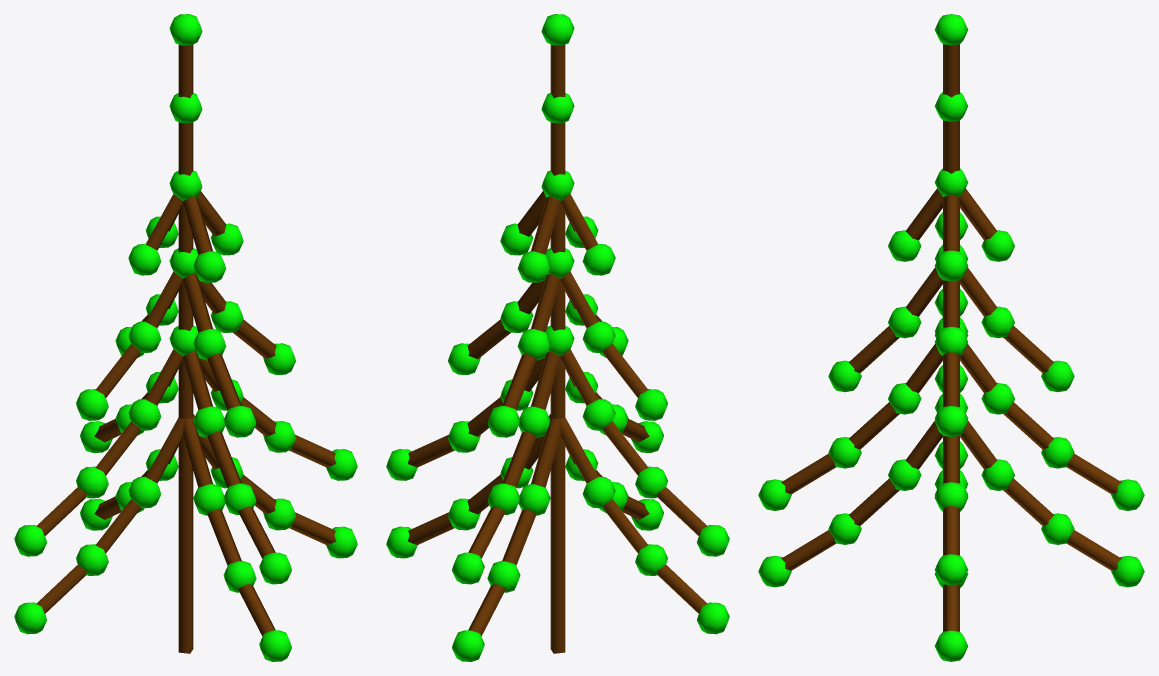
Rendered from spruce.obj.
3 renders of one model, left to right at view 1: azimuth 30°, elevation 25°; view 2: azimuth 150°, elevation 25°; view 3: azimuth 270°, elevation 25°, orthographic.
Visible parts, largest first — view 1: Mesh_0.009_Mesh_0; view 2: Mesh_0.009_Mesh_0; view 3: Mesh_0.009_Mesh_0.
Boxes of the visible parts, x1,y1,x2,y2 form: Mesh_0.009_Mesh_0: (14,14,357,661); Mesh_0.009_Mesh_0: (386,14,729,661); Mesh_0.009_Mesh_0: (758,14,1144,661).
Size of the model in its own units: 45.88 by 82 by 45.88.
